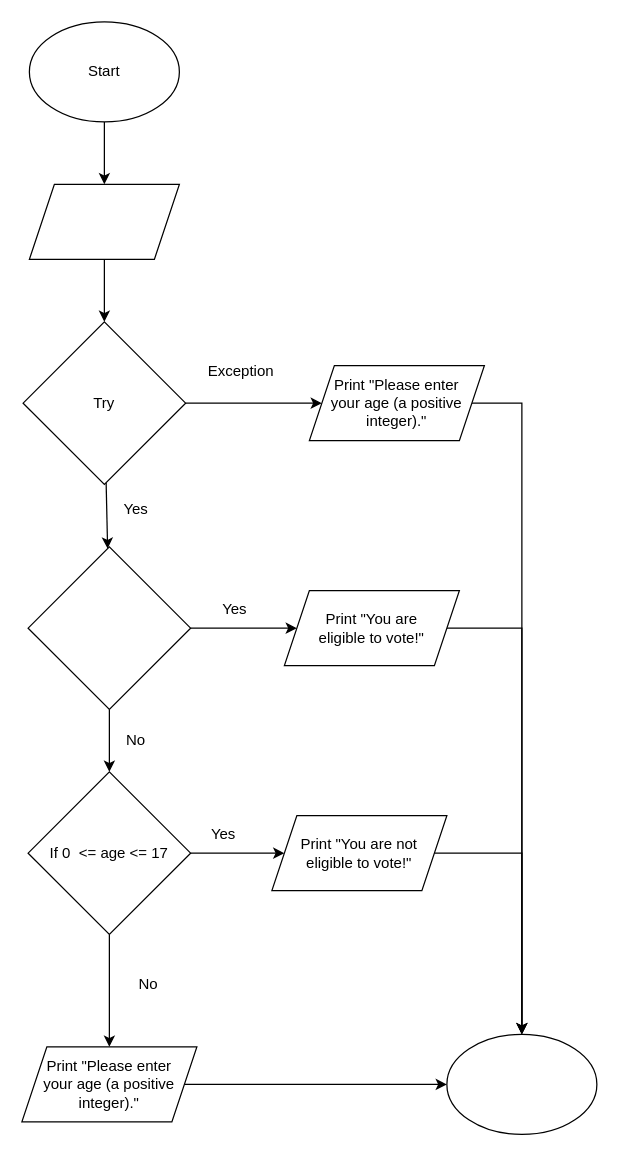
Some shapes in this 619 by 1156 pixel diagram are drawn without their labels. Here are the shapes that lost their labels. From the top down, the centre of each, then its label:
At point (103, 221): "Get age".
At point (109, 627): "If age >= 18".
At point (521, 1083): "Stop".
